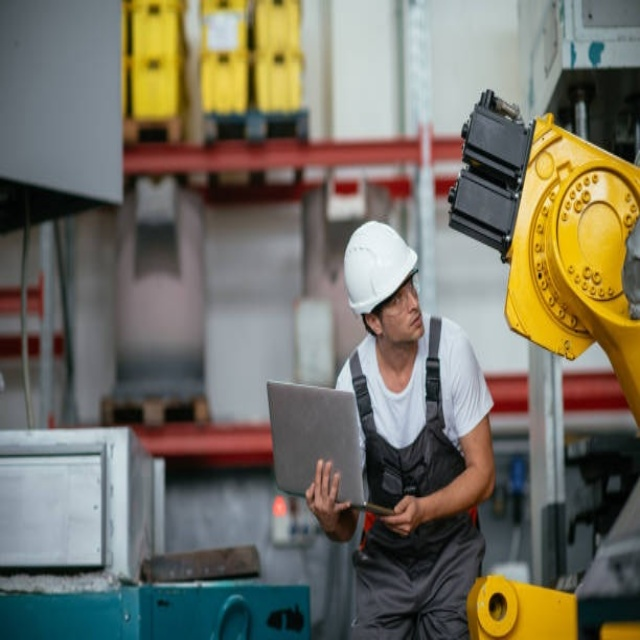Gafas: (378, 276, 421, 313)
Sin_guantes: (305, 458, 348, 528), (378, 496, 422, 540)
Sin_mascara: (404, 307, 425, 337)
